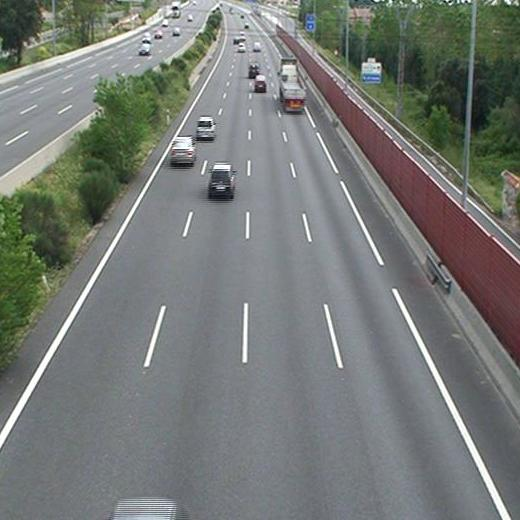car: (209, 163, 233, 193), (170, 137, 195, 161), (196, 119, 215, 137), (254, 76, 266, 90), (247, 63, 258, 75), (237, 42, 246, 53)
truck: (279, 58, 305, 111)
